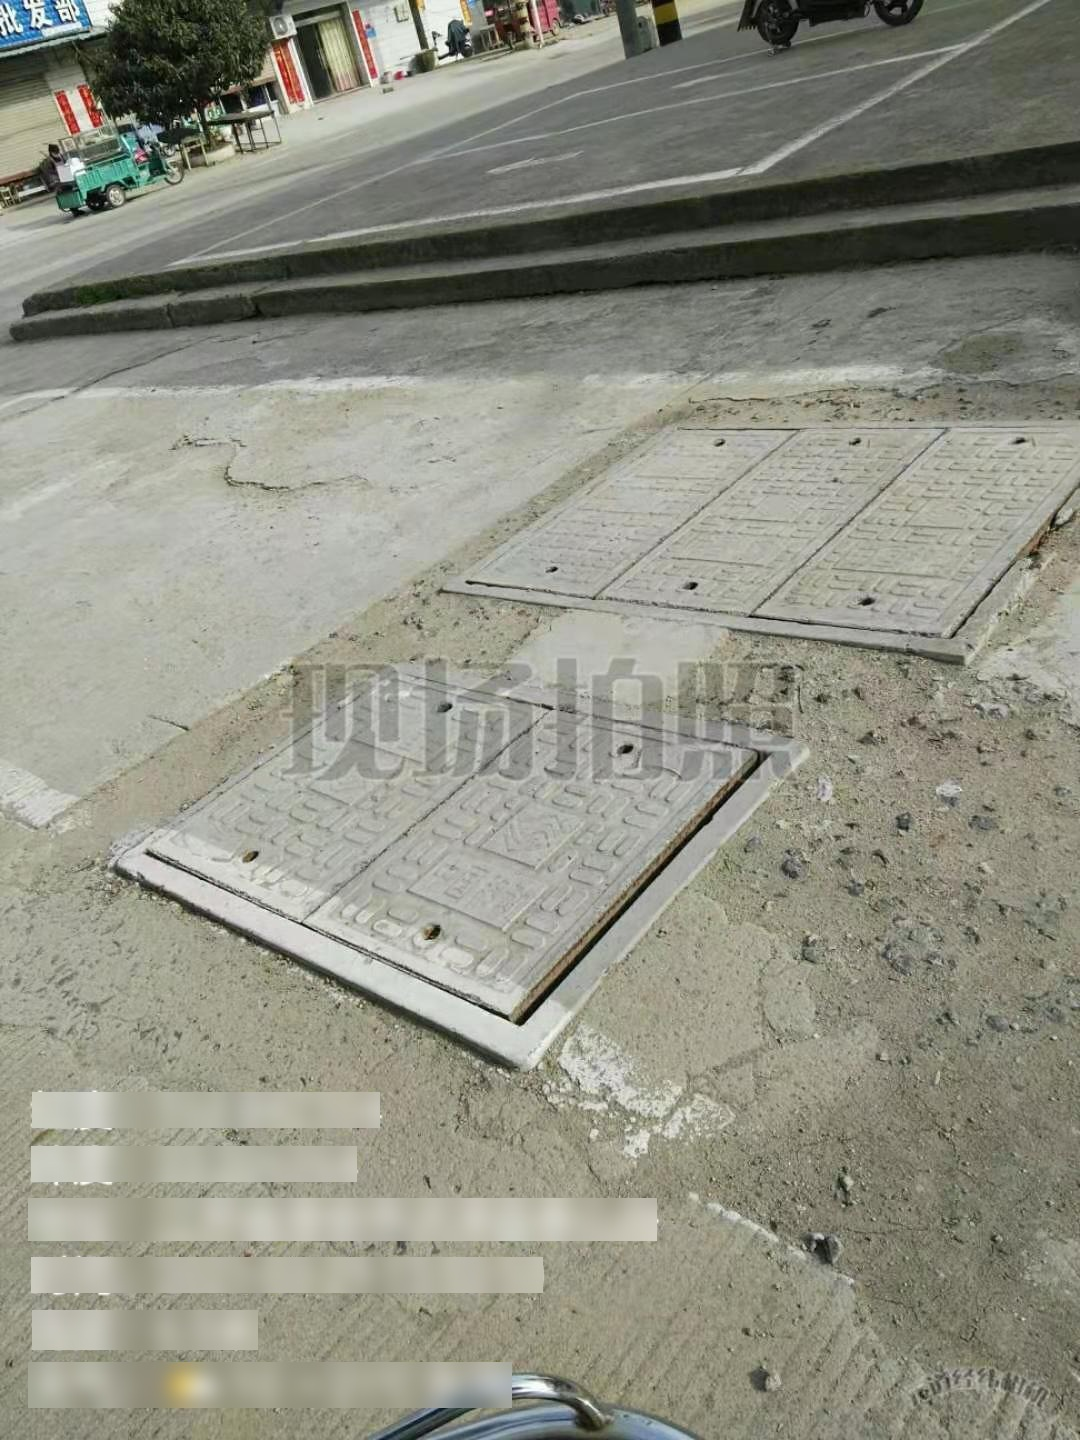good: (113, 662, 812, 1071), (442, 420, 1080, 664)
